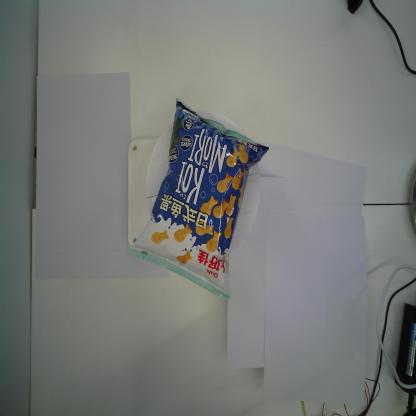Puffed Food: (128, 96, 270, 302)
